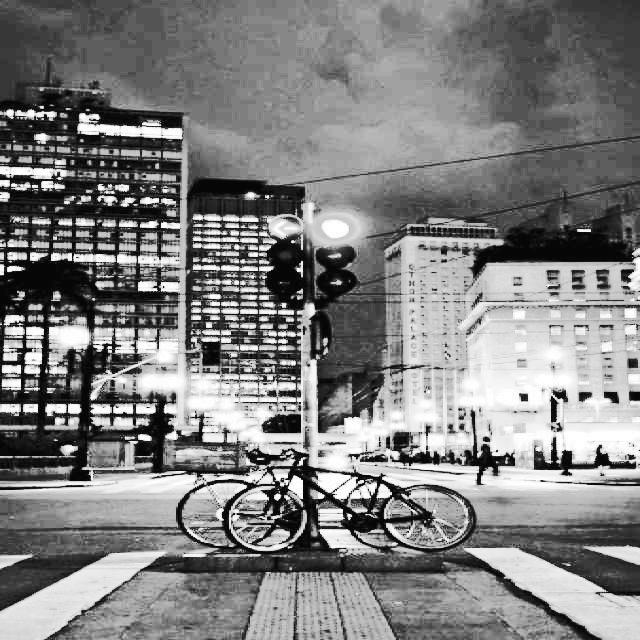Bicycle: (134, 398, 325, 575), (240, 459, 498, 584)
